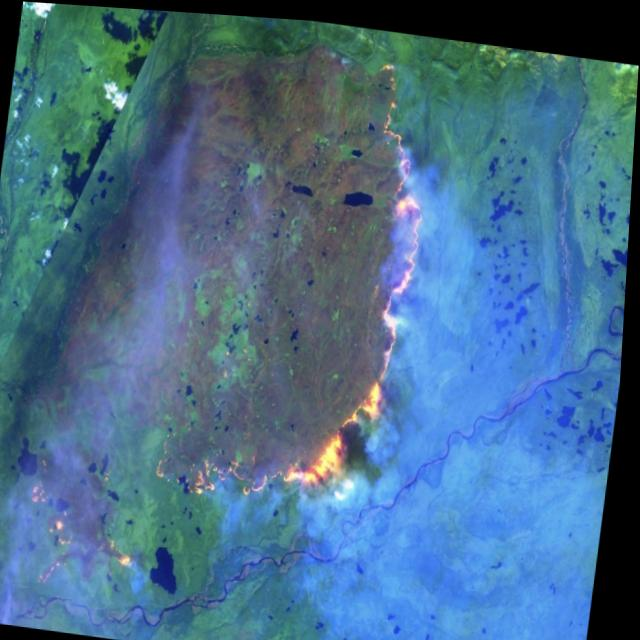fire: (183, 31, 456, 524), (15, 470, 152, 601)
